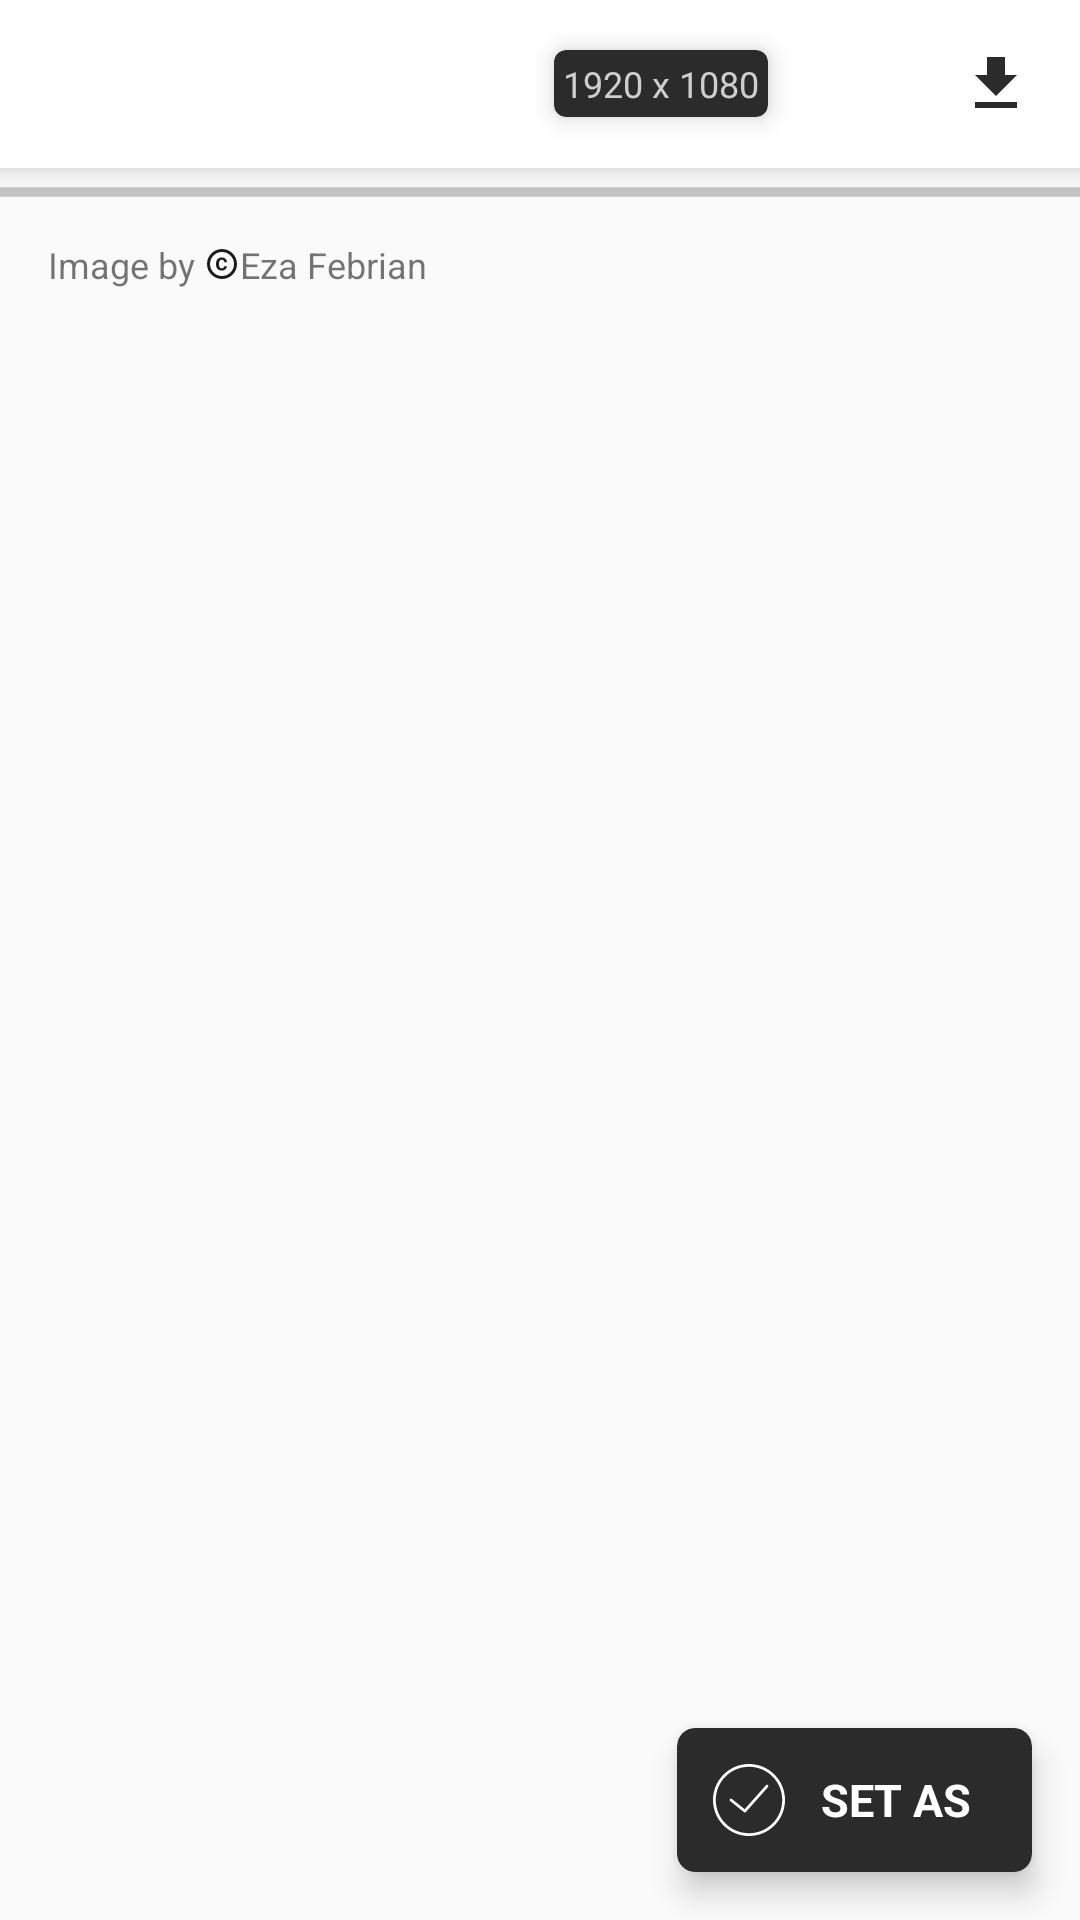

Screen size 1080 × 1920. Icon name, then its box in pixels as (x1, y1, x2, y2):
file download: (975, 57, 1017, 108)
